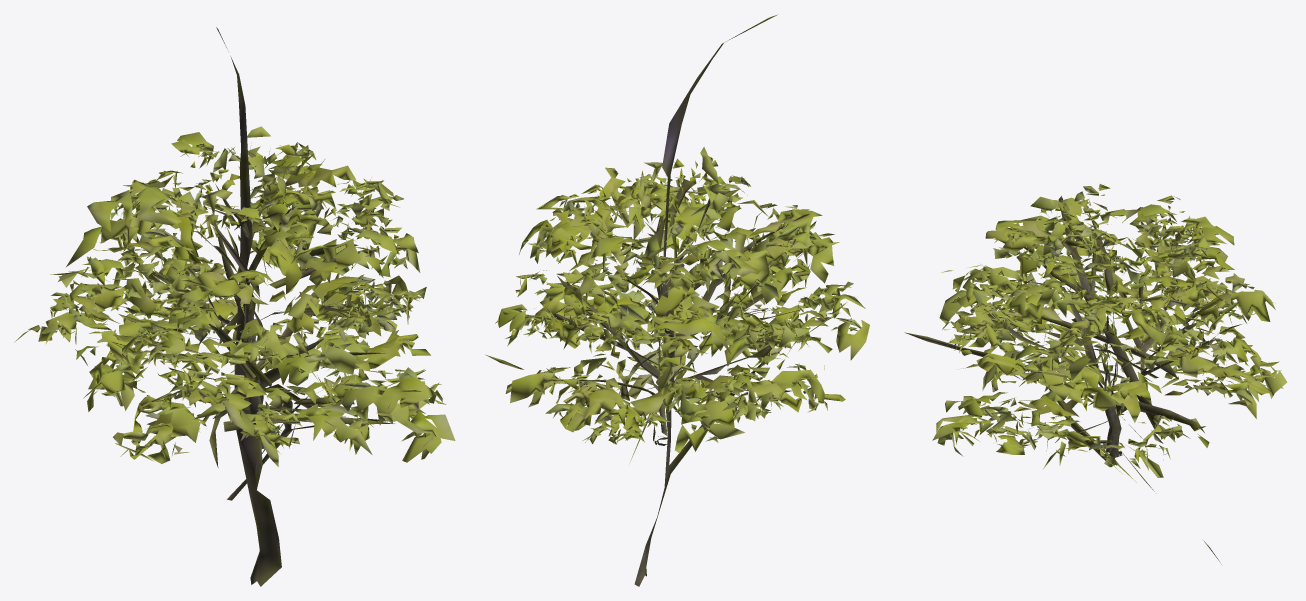
The model's file is tree_03_spring_lime.glb.
The picture shows the model from 3 angles, left to right: view 1: azimuth 30°, elevation 25°; view 2: azimuth 150°, elevation 25°; view 3: azimuth 270°, elevation 25°; orthographic projection. The views are drawn at different scales.
Visible parts, largest first — view 1: geometry_0; view 2: geometry_0; view 3: geometry_0.
Boxes of the visible parts, box(x1,y1,x2,y2) form: geometry_0: box(14, 27, 455, 586); geometry_0: box(485, 14, 869, 586); geometry_0: box(904, 184, 1287, 564).
Size of the model in its own units: 0.5788 by 1 by 0.6713.
1 material, 1 textured.
